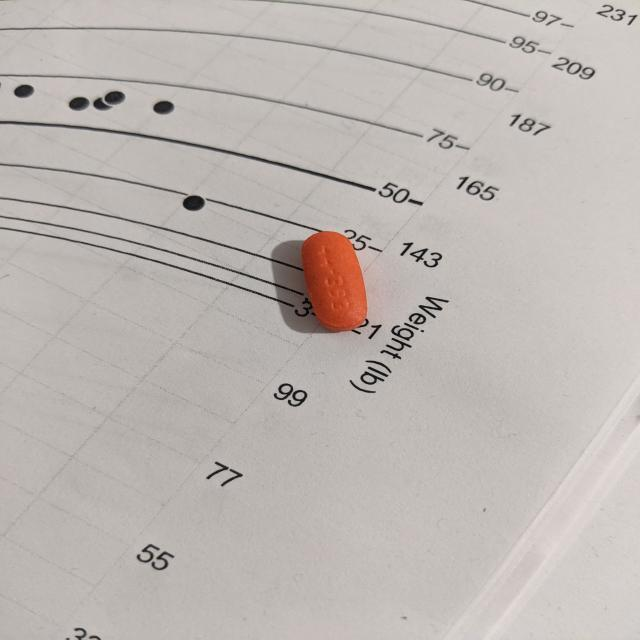non-organic waste: (301, 229, 370, 333)
